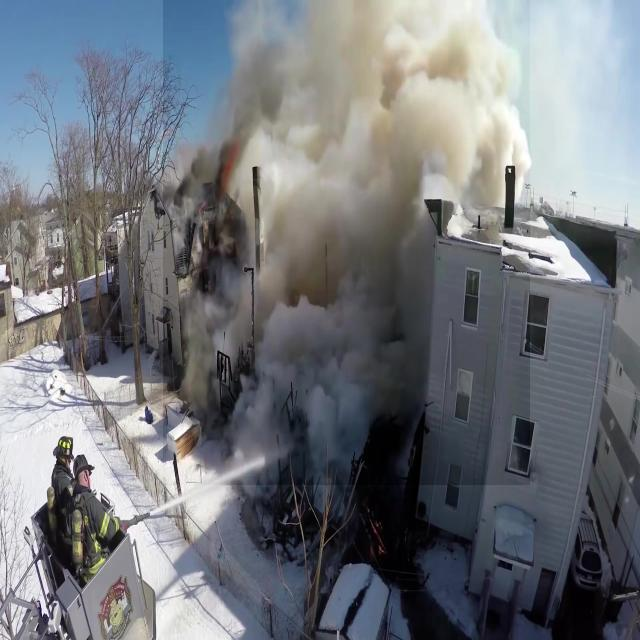Smoke: (163, 0, 530, 485)
